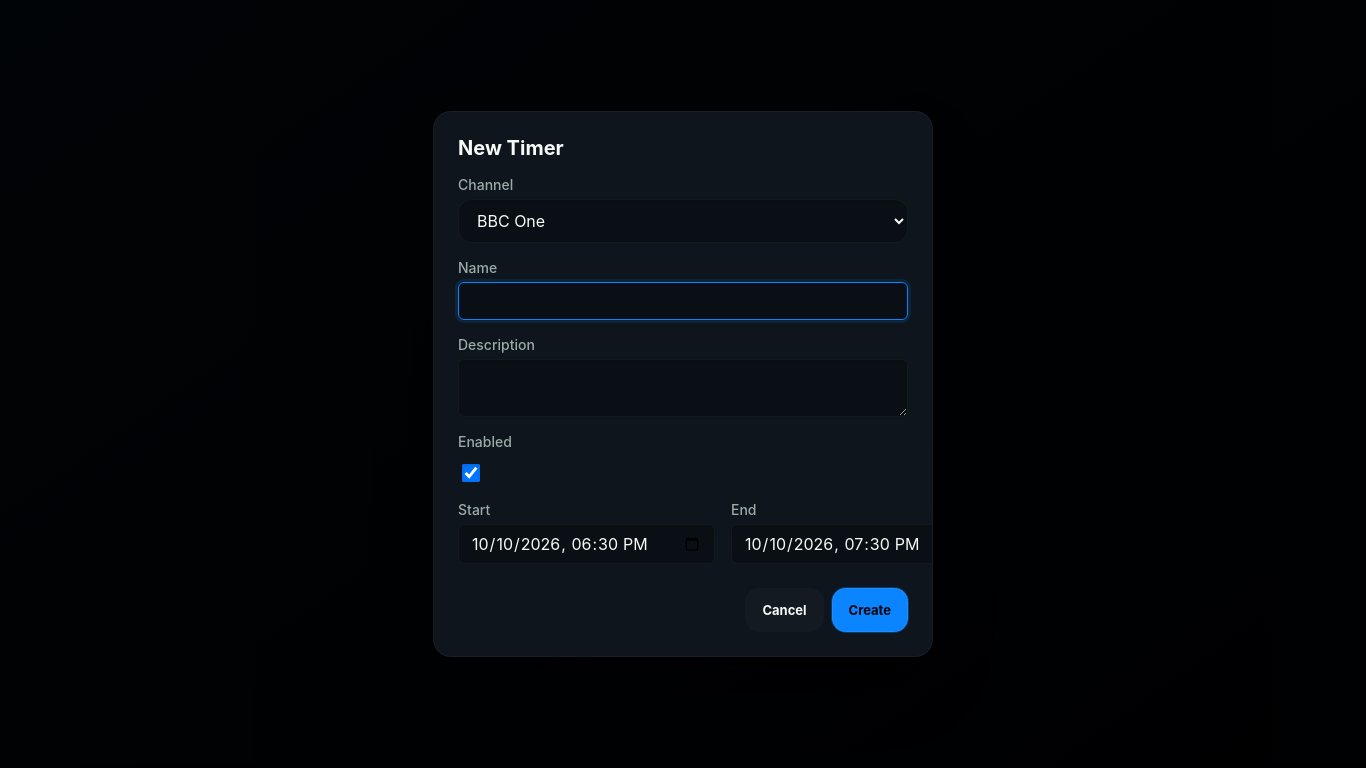
Test case: EditTimerDialog failure handling (SDK resolves { error } instead of throwing) › does not close or refresh, and surfaces the error, when timer creation fails
This screenshot has width=1366, height=768.
Type "Morning News" into the field with test id "timer-edit-name" at (683, 301), box [458,282,908,320]
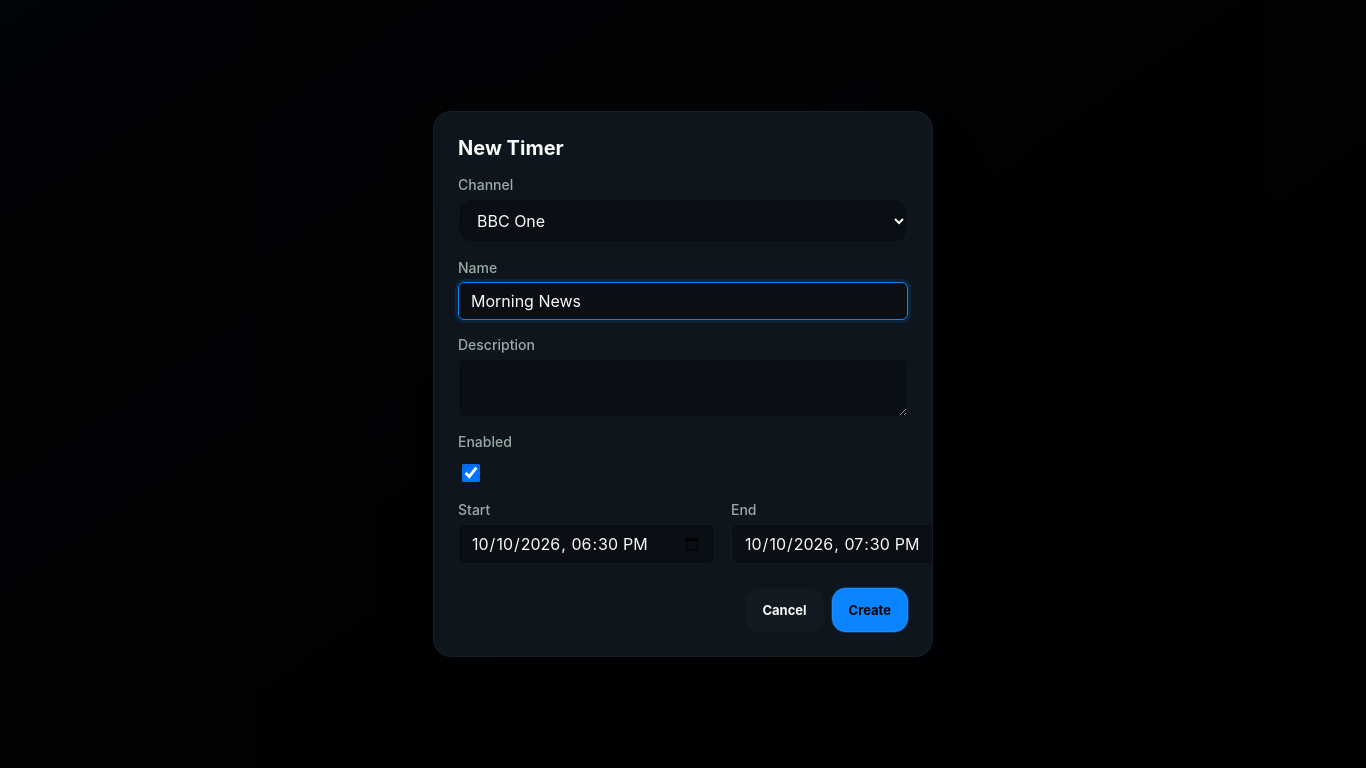
Click the button with test id "timer-edit-save" at (870, 610), box [832,588,908,632]
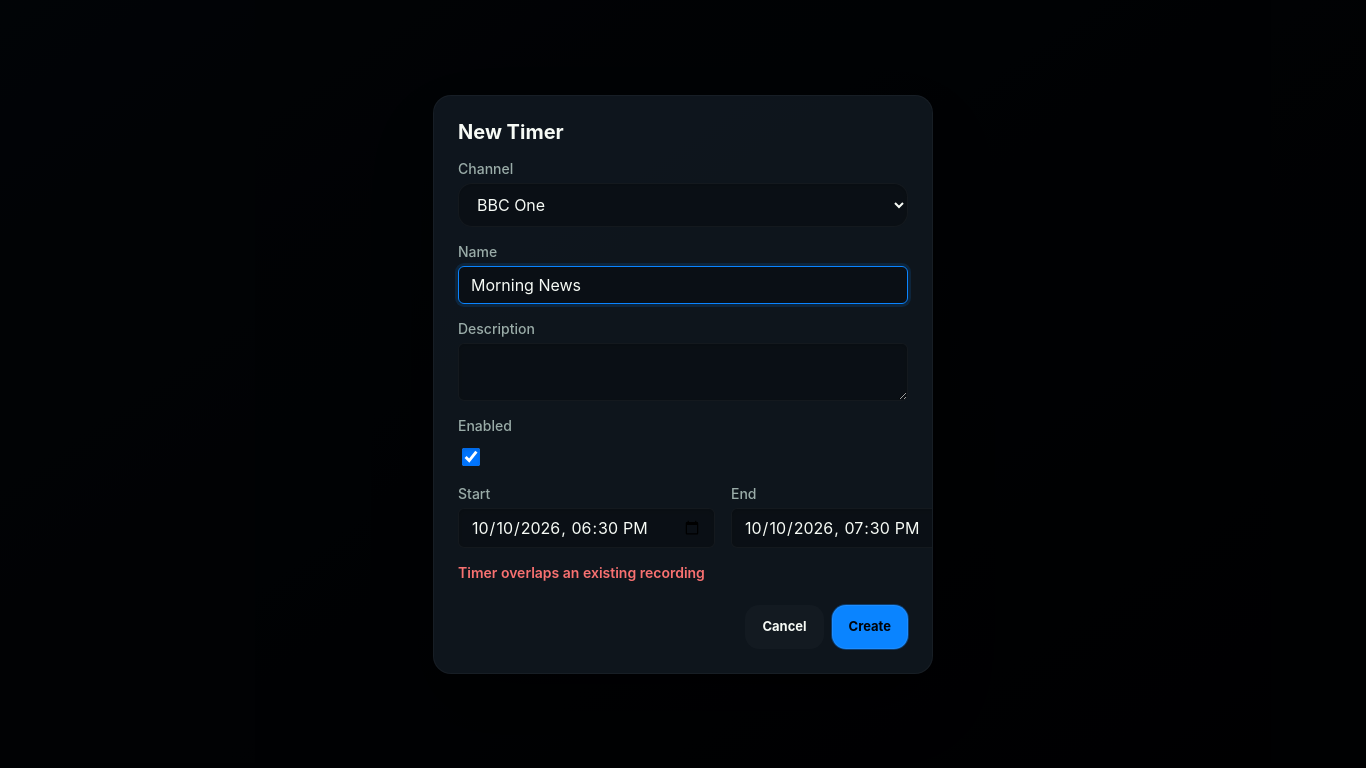
expect the message reads "Timer overlaps an existing recording": met, box [458,564,705,580]
